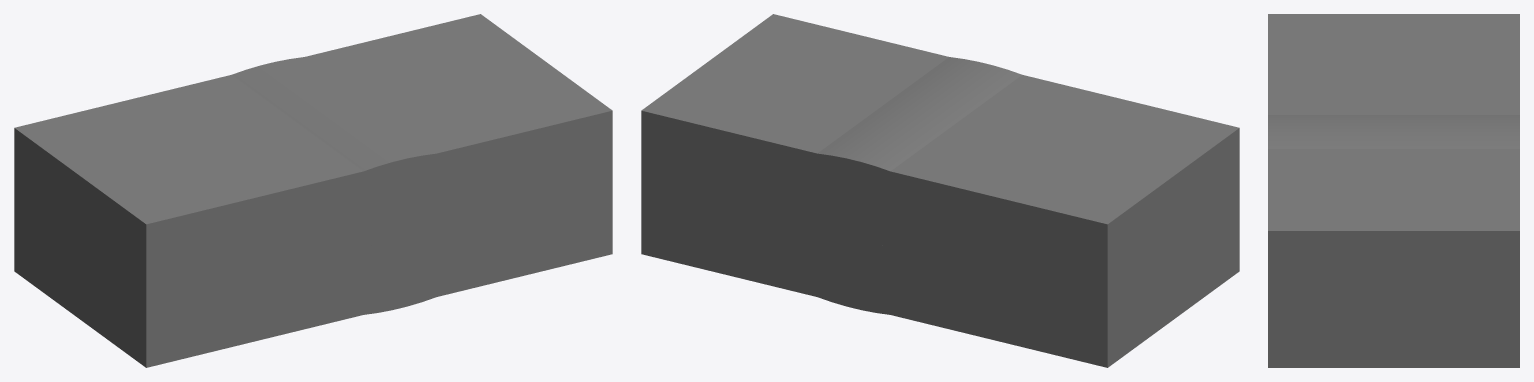
3 renders of one model, left to right at view 1: azimuth 30°, elevation 25°; view 2: azimuth 150°, elevation 25°; view 3: azimuth 270°, elevation 25°, orthographic. The views are drawn at different scales.
Visible parts, largest first — view 1: mesh_id4, mesh_id5; view 2: mesh_id4, mesh_id5; view 3: mesh_id4, mesh_id5.
Part boxes in pixels (x1,y1,x2,y2): mesh_id4: (14, 14, 612, 367); mesh_id5: (232, 57, 436, 314); mesh_id4: (641, 14, 1239, 367); mesh_id5: (817, 57, 1021, 314); mesh_id4: (1268, 14, 1519, 367); mesh_id5: (1268, 115, 1519, 148).
Size of the model in its own units: 0.512 by 0.1554 by 0.251.
Materials: 2 (2 with a texture image).
